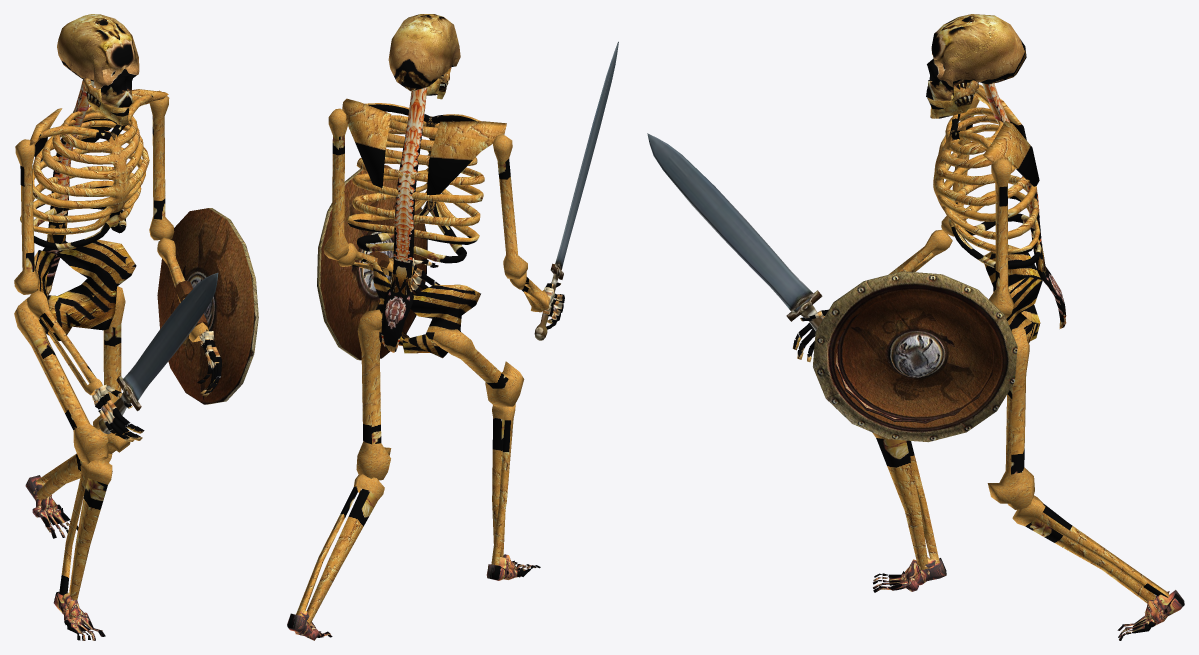
File: Skeleton_000021.obj
3 views of the same model, side by side, from view 1: azimuth 30°, elevation 25°; view 2: azimuth 150°, elevation 25°; view 3: azimuth 270°, elevation 25° (orthographic). The views are drawn at different scales.
Parts seen in each view (by area): view 1: Shield_Shield.001, Costillar, Coxis, Femur, Skull, Tibia, Humero, Sword, Radio, Feet, Hands, Omoplato (+1 smaller); view 2: Costillar, Shield_Shield.001, Femur, Tibia, Omoplato, Humero, Skull, Coxis, Sword, Radio, Feet, Hands; view 3: Shield_Shield.001, Costillar, Tibia, Sword, Skull, Femur, Humero, Feet, Coxis, Omoplato, Mandibula, Radio.
Boxes of the visible parts, box(x1,y1,x2,y2) form: Shield_Shield.001: box(157, 208, 258, 404); Costillar: box(20, 81, 153, 295); Coxis: box(34, 239, 136, 340); Femur: box(14, 286, 130, 464); Skull: box(57, 14, 139, 107); Tibia: box(35, 453, 112, 599); Humero: box(14, 90, 174, 294); Sword: box(99, 273, 218, 434); Radio: box(27, 237, 208, 395); Feet: box(25, 475, 105, 640); Hands: box(92, 330, 221, 441); Omoplato: box(29, 89, 168, 161); Costillar: box(347, 87, 484, 352); Shield_Shield.001: box(317, 165, 427, 360); Femur: box(356, 309, 524, 480); Tibia: box(296, 403, 515, 624); Omoplato: box(342, 98, 506, 194); Humero: box(323, 108, 527, 279); Skull: box(388, 14, 460, 91); Coxis: box(373, 263, 480, 358); Sword: box(534, 41, 618, 340); Radio: box(338, 243, 549, 312); Feet: box(287, 554, 540, 640); Hands: box(410, 258, 564, 329); Shield_Shield.001: box(813, 271, 1017, 442); Costillar: box(933, 83, 1066, 328); Tibia: box(872, 432, 1168, 603); Sword: box(647, 133, 823, 330); Skull: box(926, 14, 1026, 100); Femur: box(987, 326, 1034, 509); Humero: box(941, 96, 1014, 318); Feet: box(873, 557, 1184, 640); Coxis: box(984, 244, 1042, 342); Omoplato: box(966, 82, 1039, 186); Mandibula: box(927, 80, 978, 118); Radio: box(889, 229, 952, 274).
Bounding box in the file's own units: 2.82 × 8.31 × 6.71.
5 materials, 5 textured.
